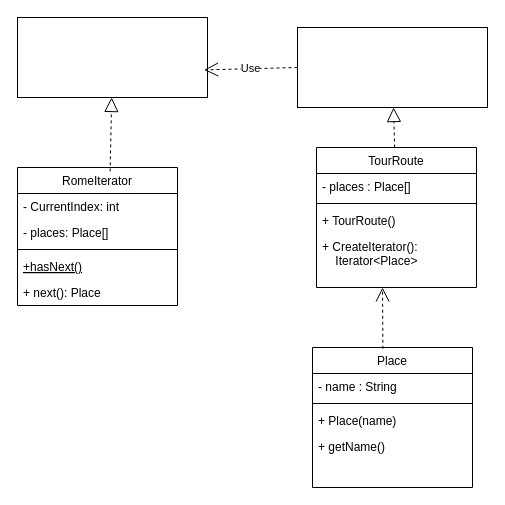
Image size: 505x505. Some labels were removed from this diagram. The centre of each missing label's shape, as x and y in pixels:
"<<Interface>> Aggregate<T> + createIterator() Iterator<T>" goes at (x=392, y=67).
"<<Interface>> Iterator<T> + hasNext(): boolean + next: T" goes at (x=112, y=57).
